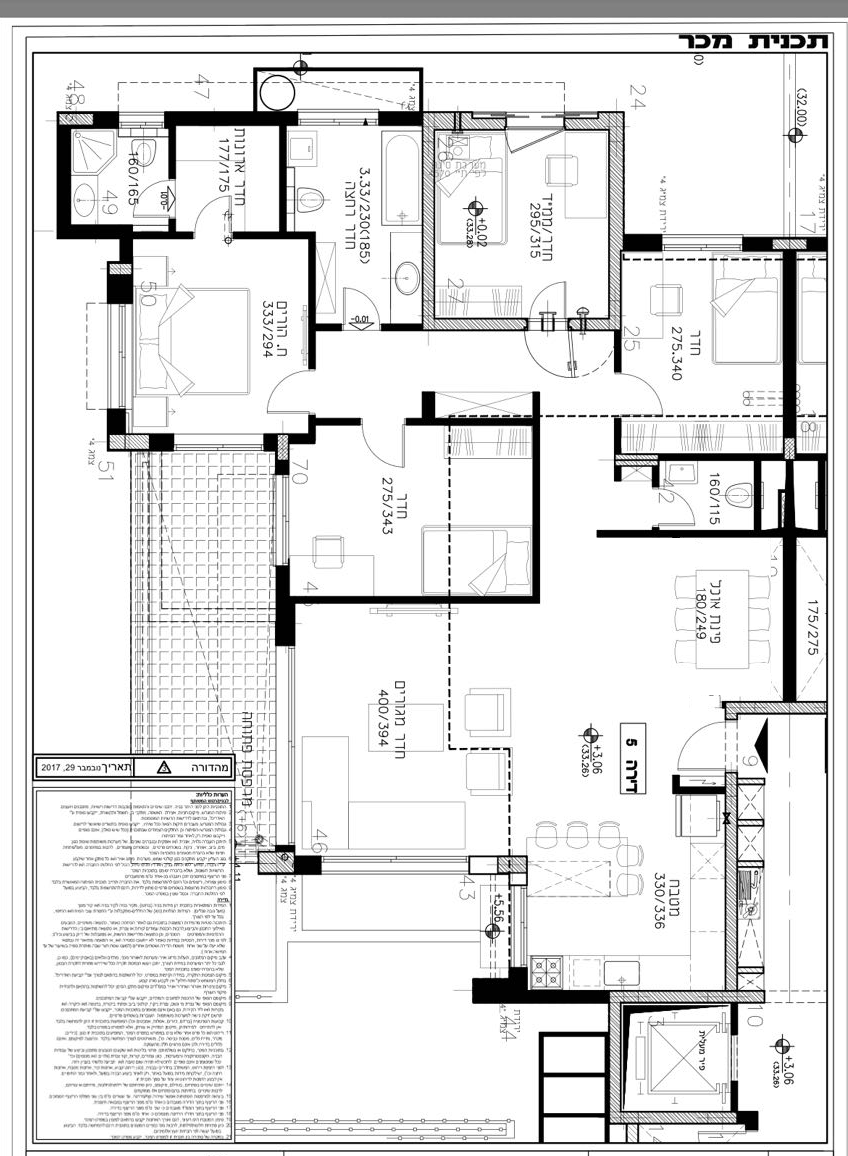door: (357, 425, 412, 472), (260, 369, 315, 416), (621, 370, 666, 416), (660, 487, 695, 528)
wall: (782, 250, 797, 436), (609, 111, 621, 330), (423, 113, 434, 329), (782, 536, 795, 700), (276, 595, 539, 603), (164, 111, 298, 124), (57, 127, 71, 239), (533, 392, 539, 595), (659, 452, 785, 460)
window: (106, 304, 132, 409), (173, 434, 264, 451), (296, 109, 377, 125), (661, 234, 742, 250)
